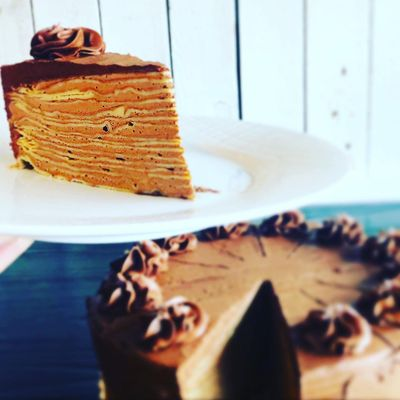sandwich: (84, 204, 400, 400)
sushi: (3, 48, 196, 199)
